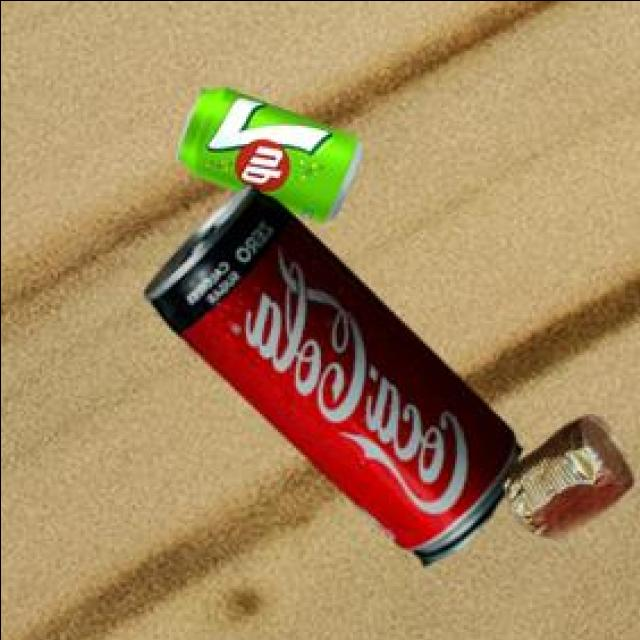logam: (142, 187, 516, 569), (174, 90, 357, 226), (500, 419, 628, 537)
